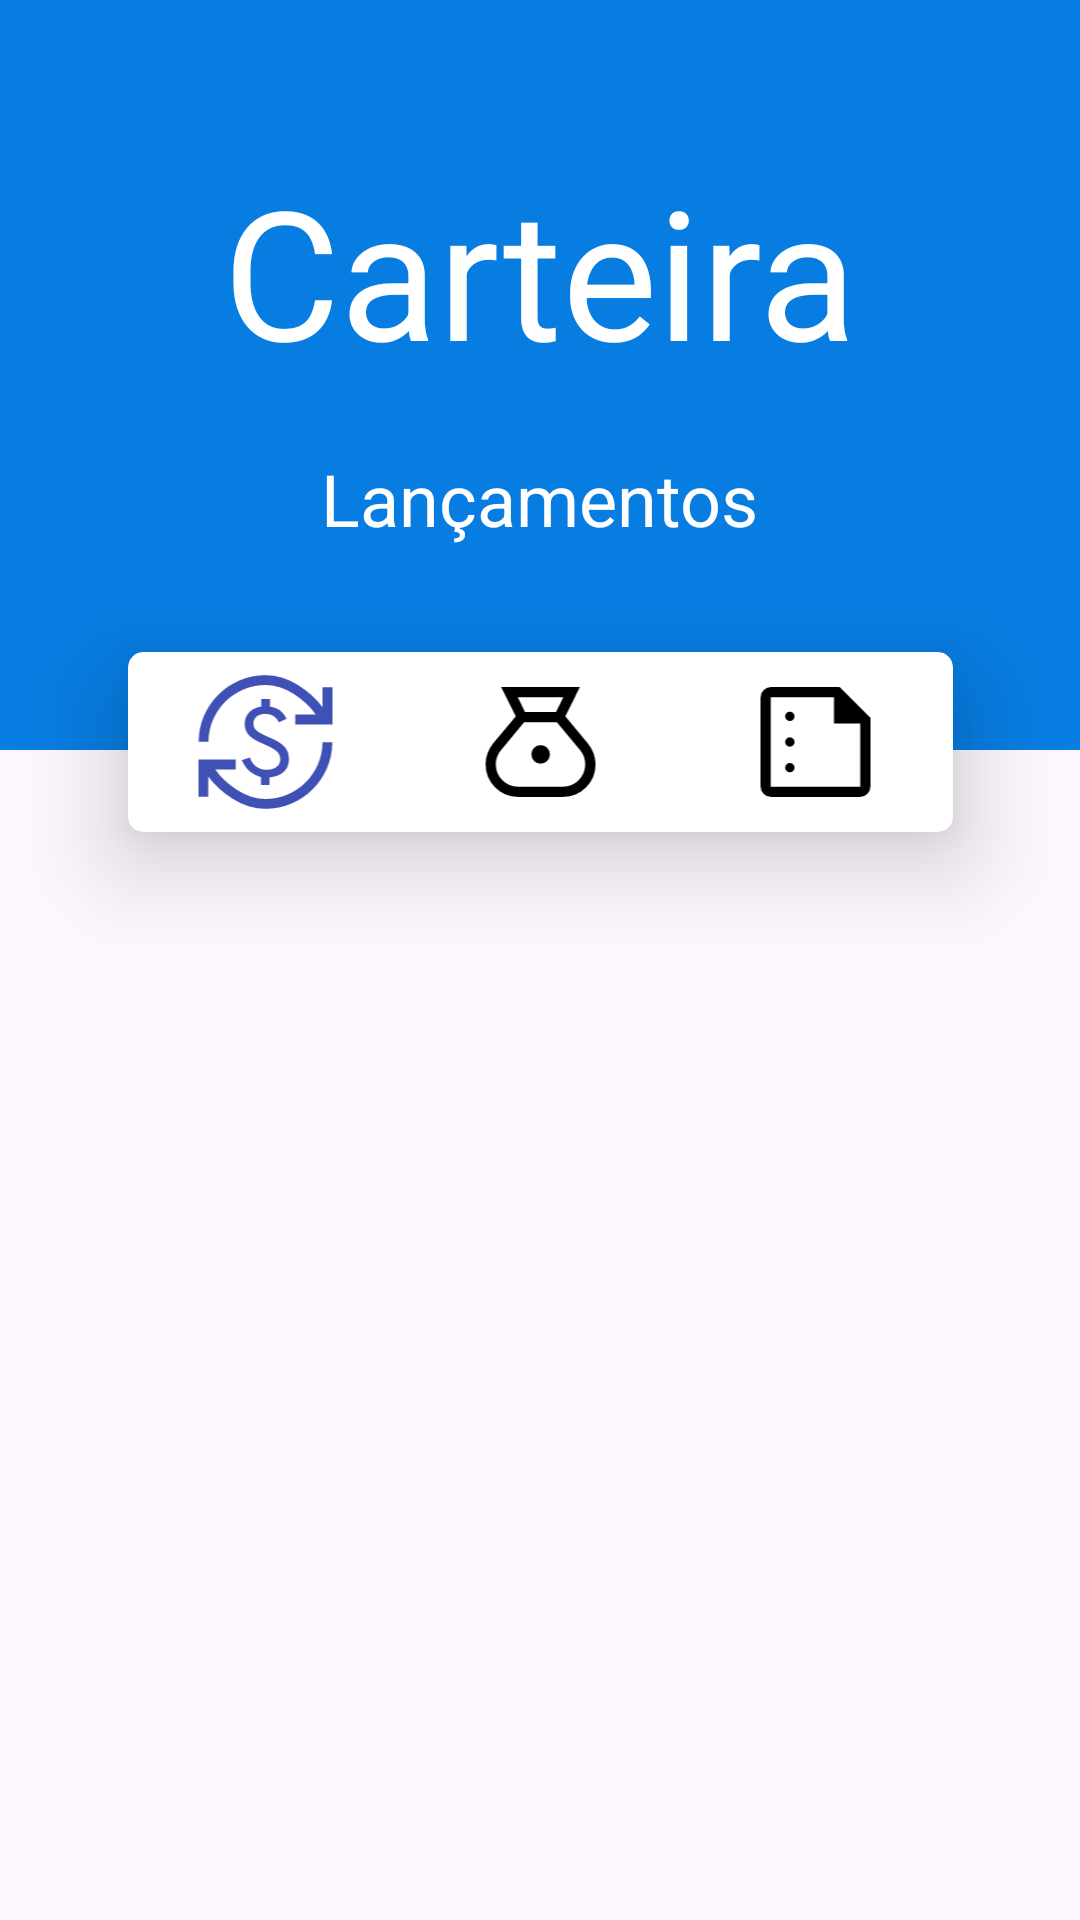

Point at icon controls on the screen. Image size 1080px×1920px, points as (x,y).
currency exchange activated: (265,742)
money bag: (540,742)
summarize: (815,742)
